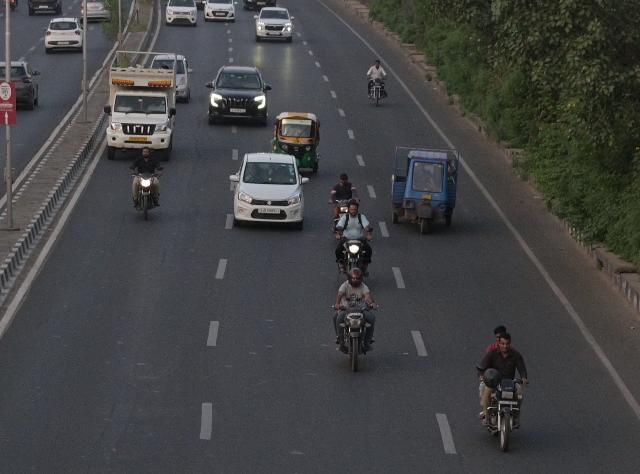With Helmet: (347, 266, 363, 288)
Without Helmet: (498, 334, 512, 354), (347, 198, 361, 216), (494, 326, 504, 345), (338, 170, 349, 186), (140, 147, 152, 159), (374, 59, 381, 67)
